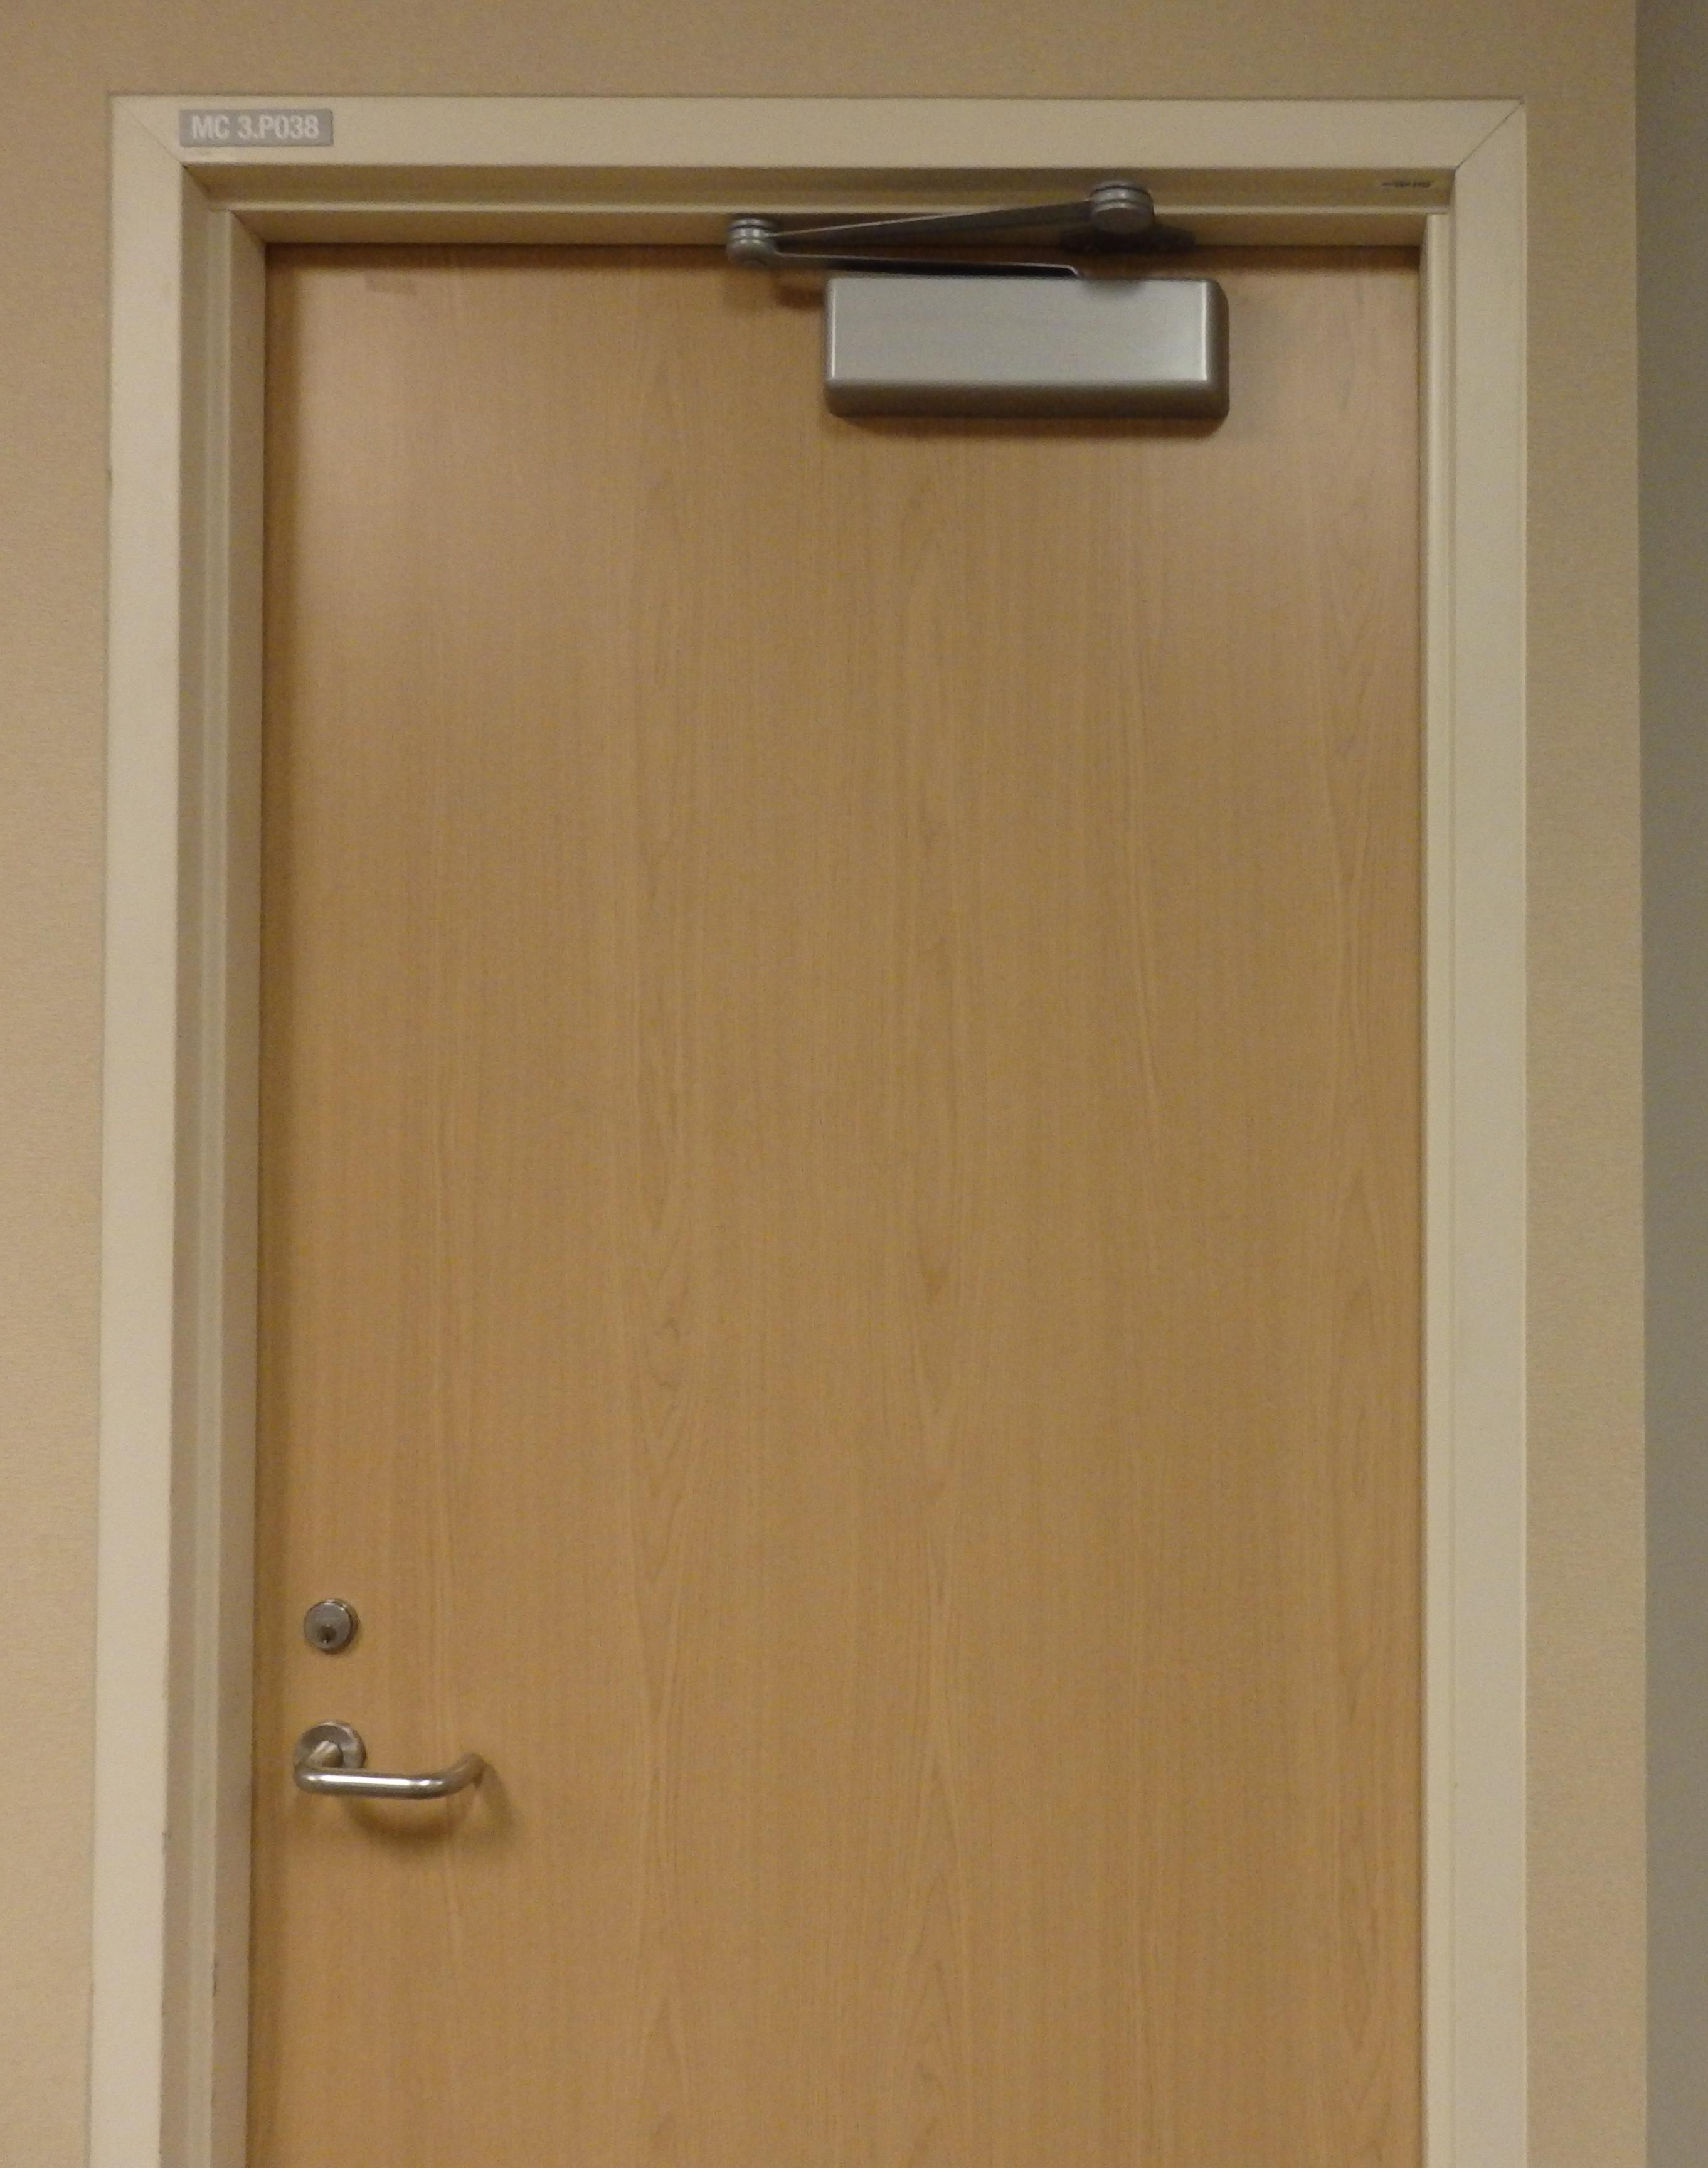door: (190, 162, 1455, 2168)
